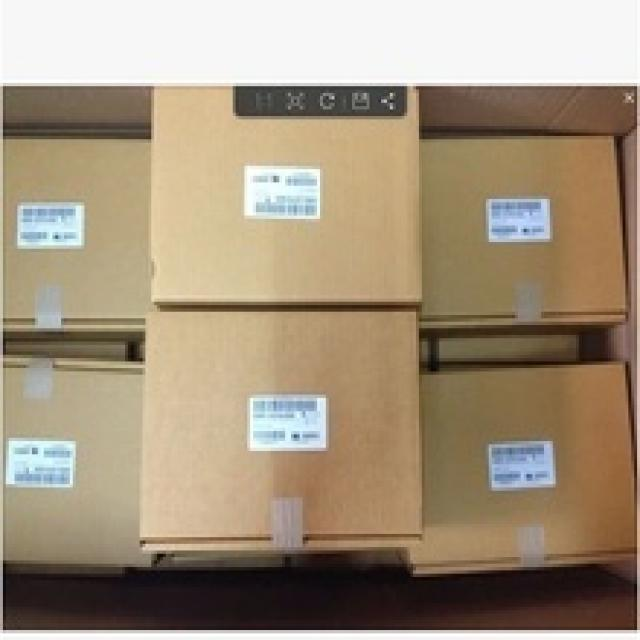box: (138, 305, 427, 553), (349, 362, 637, 576), (149, 88, 419, 309), (422, 134, 629, 326), (2, 359, 155, 575), (4, 132, 148, 335)
